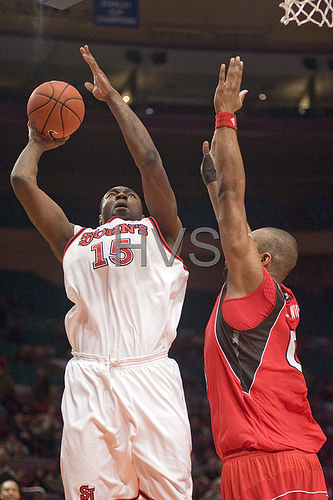basketball: (26, 79, 85, 138)
